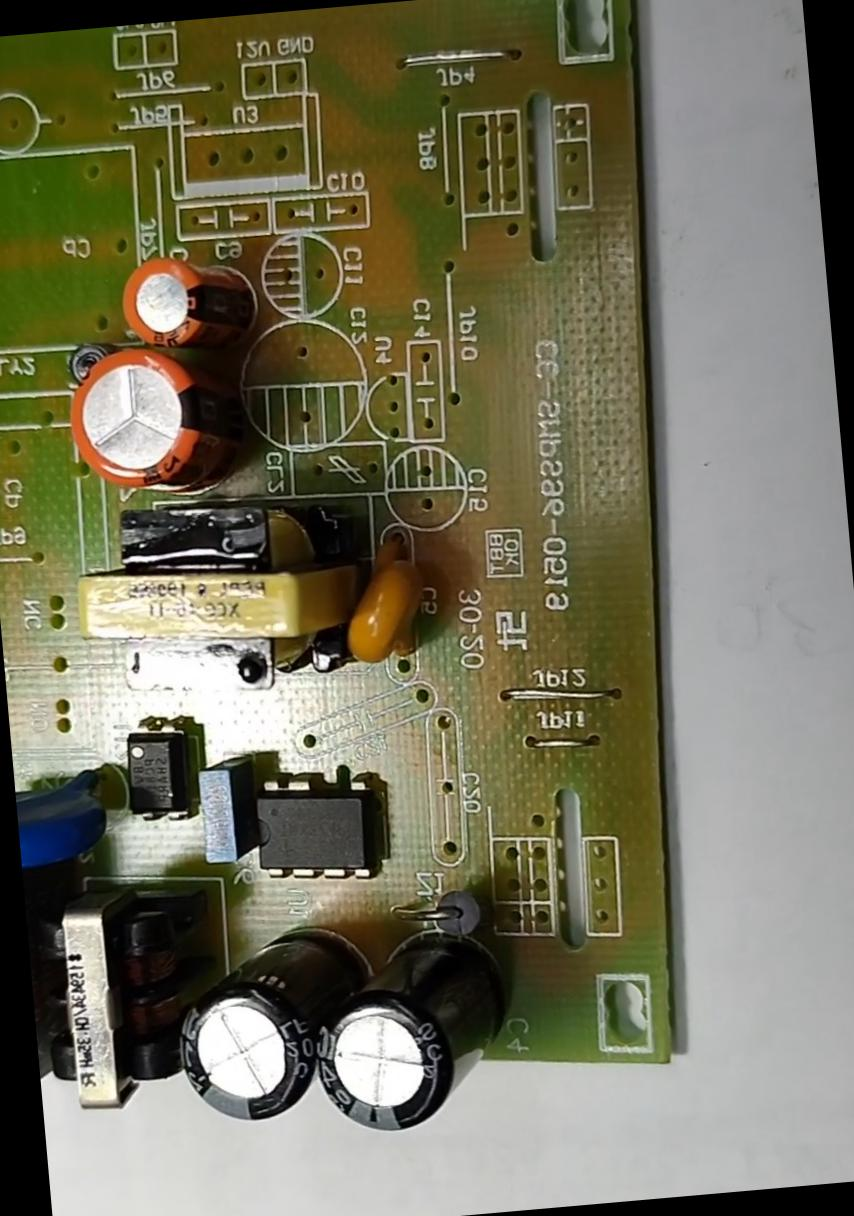Cap1: (64, 341, 253, 492)
Cap2: (117, 256, 255, 350)
Cap3: (175, 930, 330, 1126)
Cap4: (313, 938, 510, 1138)
MOSFET: (251, 771, 376, 886)
Mov: (15, 772, 120, 865)
Transformer: (64, 478, 355, 708), (40, 897, 181, 1113)
